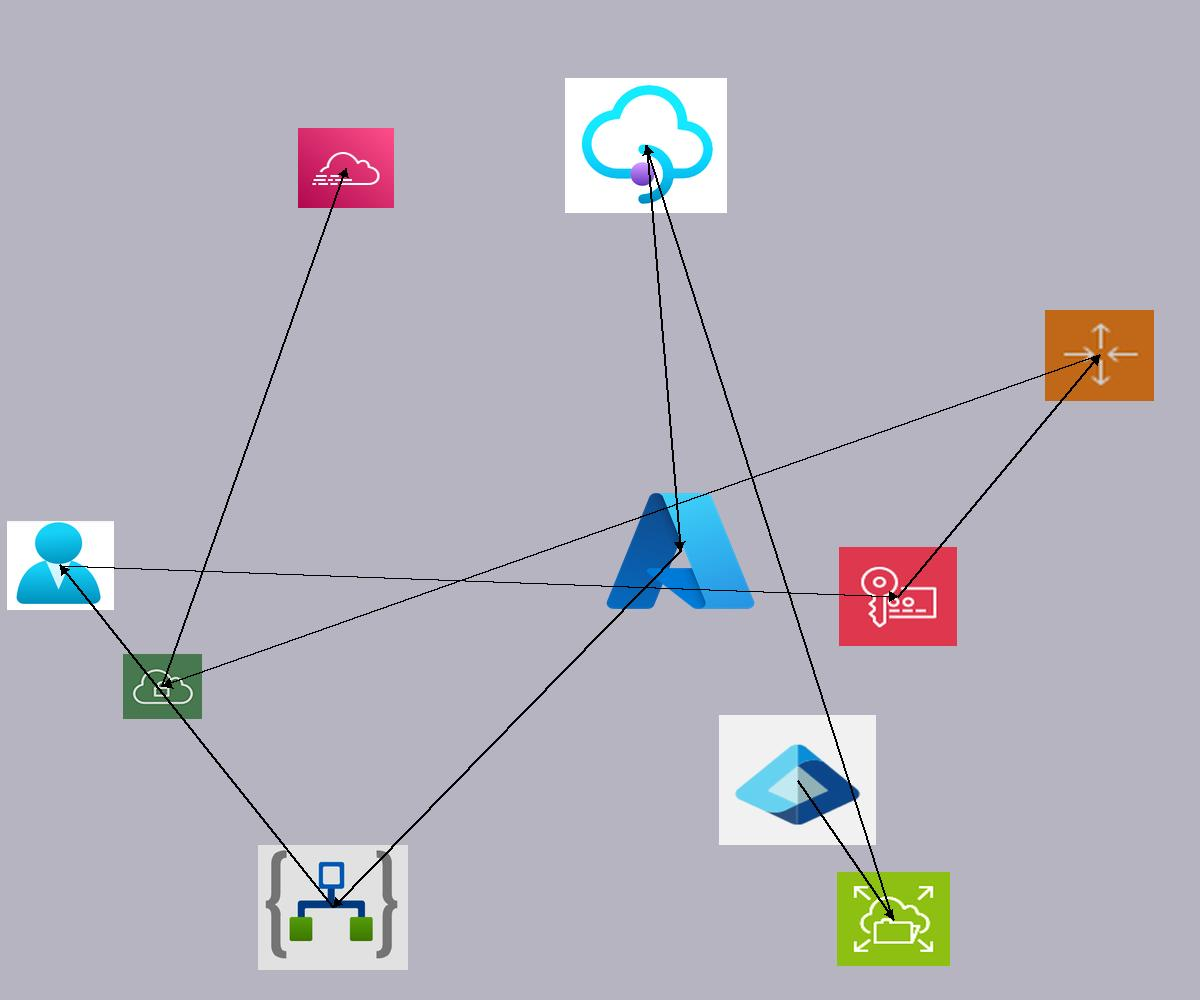AWS-CloudTrail: (298, 128, 394, 208)
AWS-EFS: (837, 872, 950, 966)
AWS-Key-Management-Service: (839, 547, 957, 646)
AWS-Private_vpc: (123, 654, 202, 719)
AWS-Scaling-group: (1045, 310, 1154, 401)
Azure_api_gateway: (565, 78, 727, 213)
Azure_integration-204-Logic-Apps: (258, 845, 408, 970)
Azure_microsoft_entra: (719, 715, 876, 845)
Azure_services: (600, 484, 761, 618)
Azure_users: (7, 521, 114, 610)
